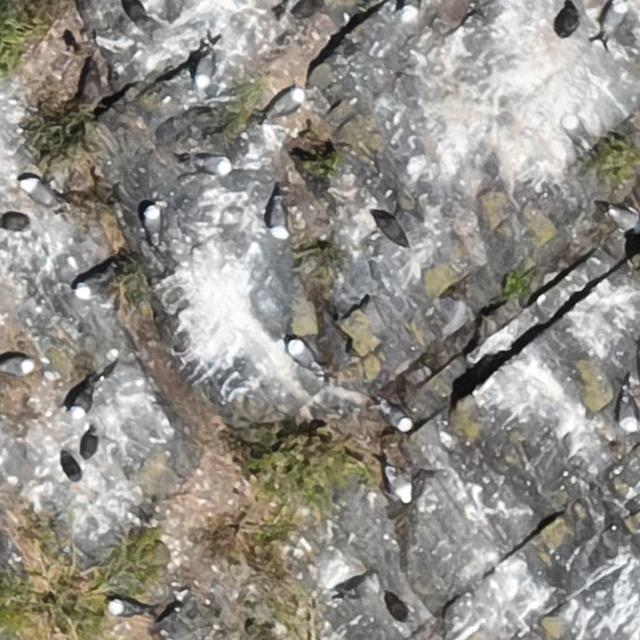umineko: (560, 114, 594, 152), (21, 181, 54, 206), (383, 405, 412, 430), (389, 471, 411, 502), (289, 341, 316, 366), (76, 274, 106, 296), (604, 3, 625, 34), (269, 202, 287, 238), (274, 90, 302, 112), (1, 358, 33, 377), (619, 399, 638, 431), (610, 209, 637, 231), (196, 156, 228, 174), (143, 206, 159, 241), (195, 55, 213, 85), (73, 388, 92, 415), (1, 214, 29, 232), (110, 599, 138, 615)
